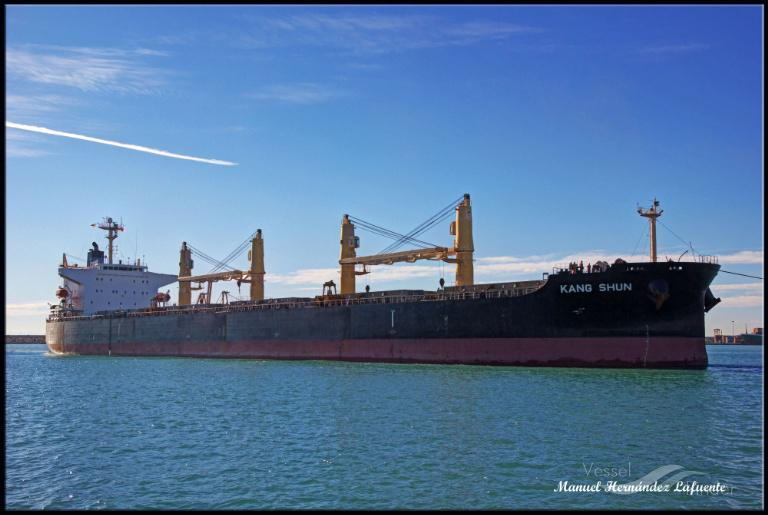OCR: (553, 278, 641, 302)
